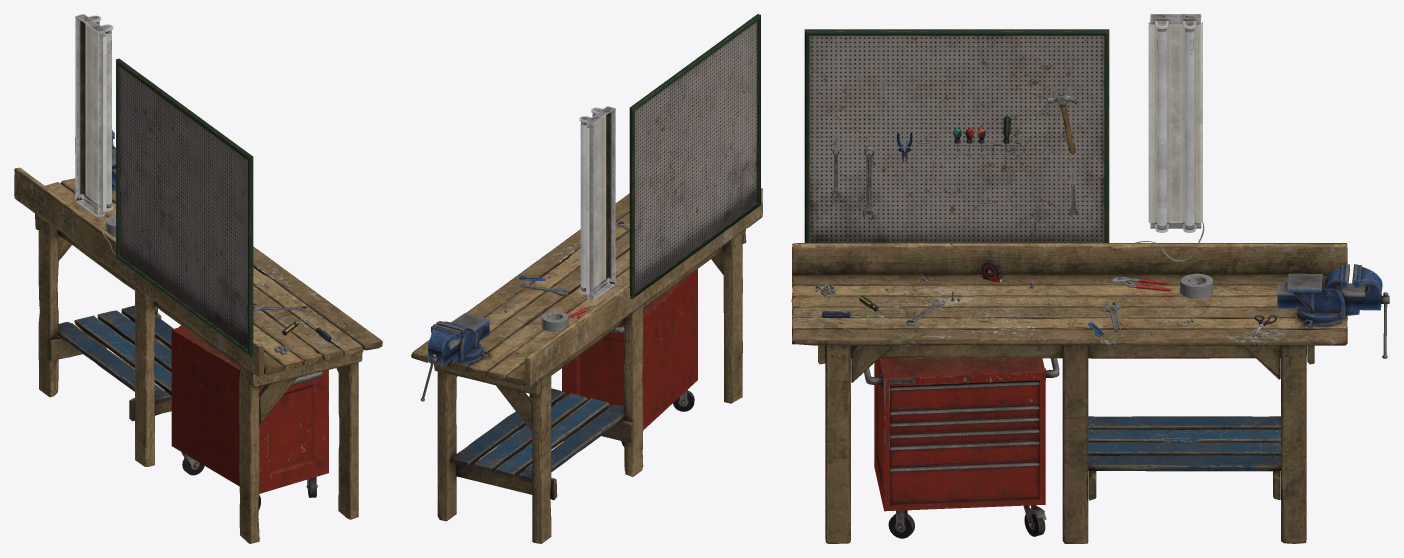
Rendered from workbench.glb.
3 views of the same model, side by side, from view 1: azimuth 30°, elevation 25°; view 2: azimuth 150°, elevation 25°; view 3: azimuth 270°, elevation 25° (orthographic). The views are drawn at different scales.
Visible parts, largest first — view 1: Workbench_Group_1_low_Mat_Workbench_0, Pegboard_Sheet_low_Mat_Pegboard_0, Tool_Cabinet_Body_low_Mat_Tool_Cabinet_0, Light_Fixture_Base_low_Mat_Light_Fixture_0, Hardware_low_Mat_Tools_0; view 2: Workbench_Group_1_low_Mat_Workbench_0, Pegboard_Sheet_low_Mat_Pegboard_0, Tool_Cabinet_Body_low_Mat_Tool_Cabinet_0, Light_Fixture_Base_low_Mat_Light_Fixture_0, Vice_Slide_low_Mat_Vice_0, Hardware_low_Mat_Tools_0; view 3: Workbench_Group_1_low_Mat_Workbench_0, Pegboard_Sheet_low_Mat_Pegboard_0, Tool_Cabinet_Body_low_Mat_Tool_Cabinet_0, Light_Fixture_Base_low_Mat_Light_Fixture_0, Hardware_low_Mat_Tools_0, Vice_Slide_low_Mat_Vice_0.
Part boxes in pixels (box(x1,y1,x2,y2)): Workbench_Group_1_low_Mat_Workbench_0: box(14, 167, 382, 543); Pegboard_Sheet_low_Mat_Pegboard_0: box(116, 58, 253, 356); Tool_Cabinet_Body_low_Mat_Tool_Cabinet_0: box(171, 325, 328, 510); Light_Fixture_Base_low_Mat_Light_Fixture_0: box(75, 14, 115, 254); Hardware_low_Mat_Tools_0: box(106, 215, 347, 354); Workbench_Group_1_low_Mat_Workbench_0: box(411, 188, 762, 543); Pegboard_Sheet_low_Mat_Pegboard_0: box(629, 14, 760, 298); Tool_Cabinet_Body_low_Mat_Tool_Cabinet_0: box(562, 269, 697, 446); Light_Fixture_Base_low_Mat_Light_Fixture_0: box(579, 106, 630, 312); Vice_Slide_low_Mat_Vice_0: box(420, 313, 489, 401); Hardware_low_Mat_Tools_0: box(500, 221, 629, 332); Workbench_Group_1_low_Mat_Workbench_0: box(791, 243, 1347, 543); Pegboard_Sheet_low_Mat_Pegboard_0: box(804, 29, 1109, 242); Tool_Cabinet_Body_low_Mat_Tool_Cabinet_0: box(864, 358, 1059, 538); Light_Fixture_Base_low_Mat_Light_Fixture_0: box(1135, 14, 1204, 261); Hardware_low_Mat_Tools_0: box(815, 94, 1276, 336); Vice_Slide_low_Mat_Vice_0: box(1277, 264, 1389, 358).
Bounding box in the file's own units: 0.699 × 2.14 × 2.49.
6 materials, 6 textured.
